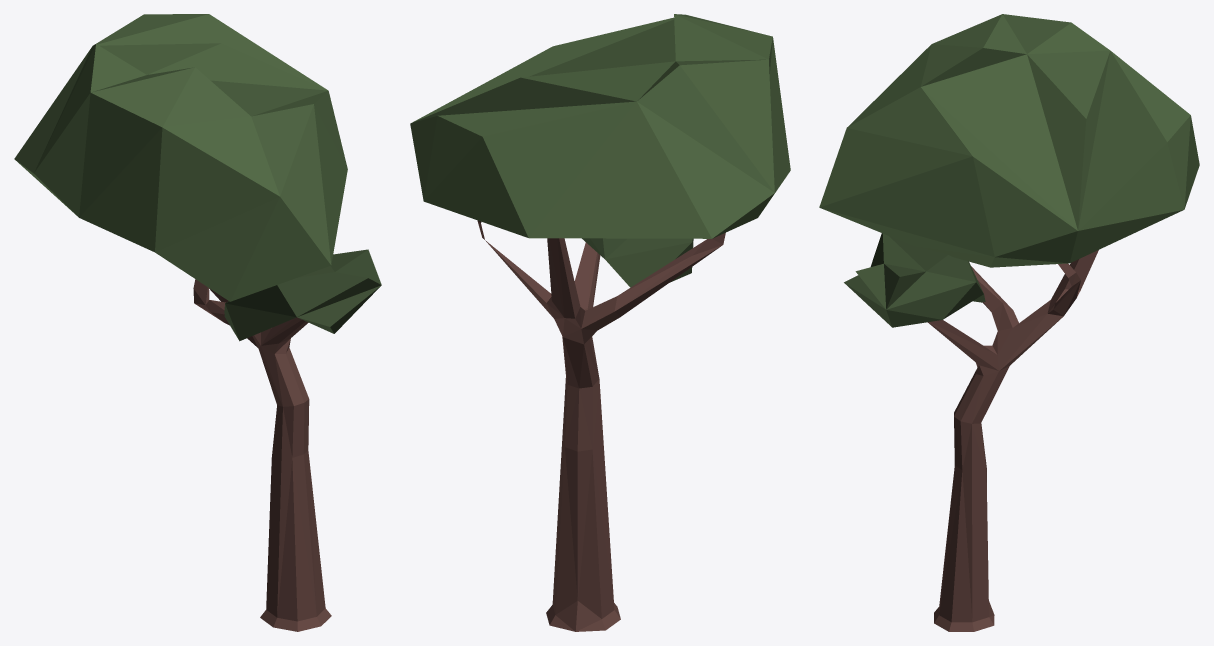
The model's file is qn_tree_d.glb.
3 renders of one model, left to right at view 1: azimuth 30°, elevation 25°; view 2: azimuth 150°, elevation 25°; view 3: azimuth 270°, elevation 25°, orthographic. The views are drawn at different scales.
Parts seen in each view (by area): view 1: qn_tree_d; view 2: qn_tree_d; view 3: qn_tree_d.
Part boxes in pixels (<box>): qn_tree_d: <box>14,14,381,631</box>; qn_tree_d: <box>410,14,790,631</box>; qn_tree_d: <box>819,14,1199,631</box>.
Size of the model in its own units: 1.58 by 2.76 by 1.79.
